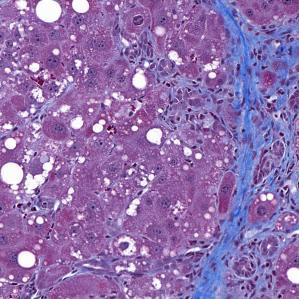fibrosis: (230, 21, 299, 144), (217, 195, 283, 297)
